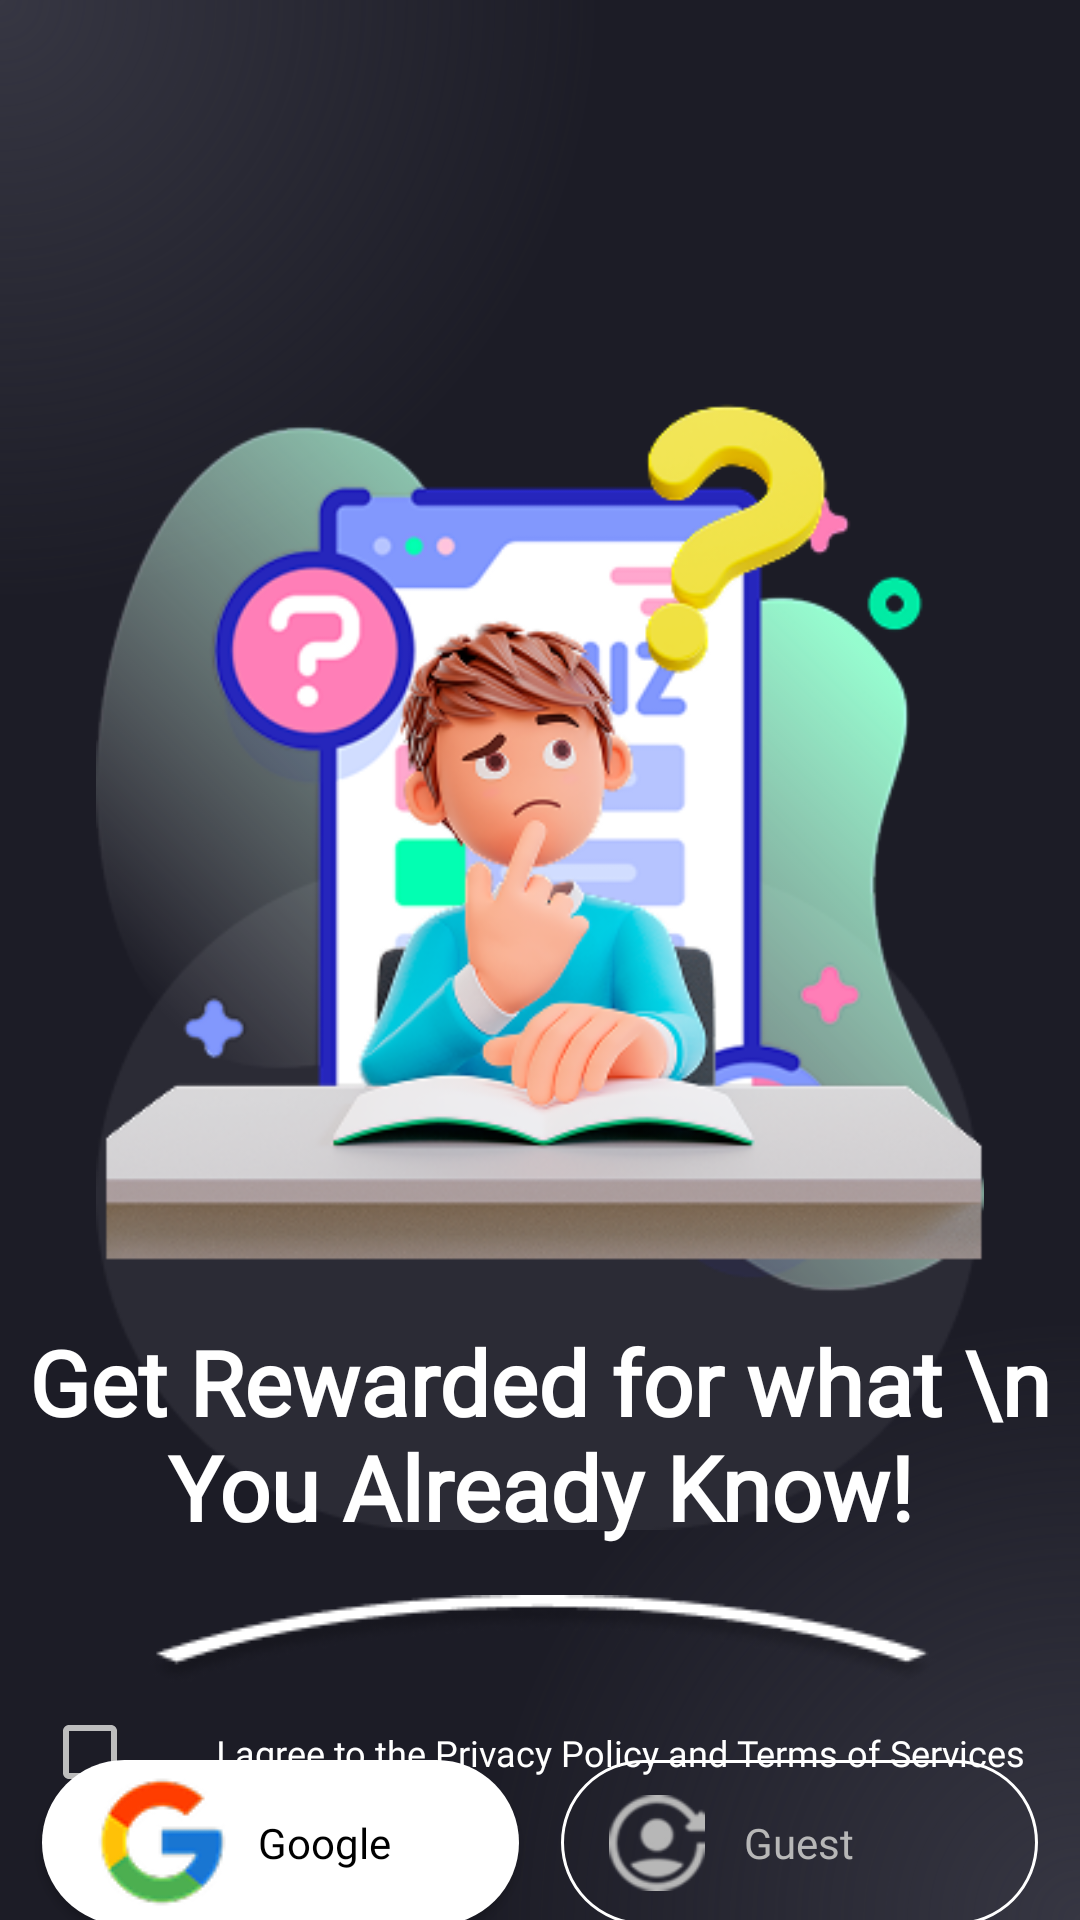

Icon click points for this 1080x1920 phone screenshot, format point (x, y):
user: point (657, 1843)
